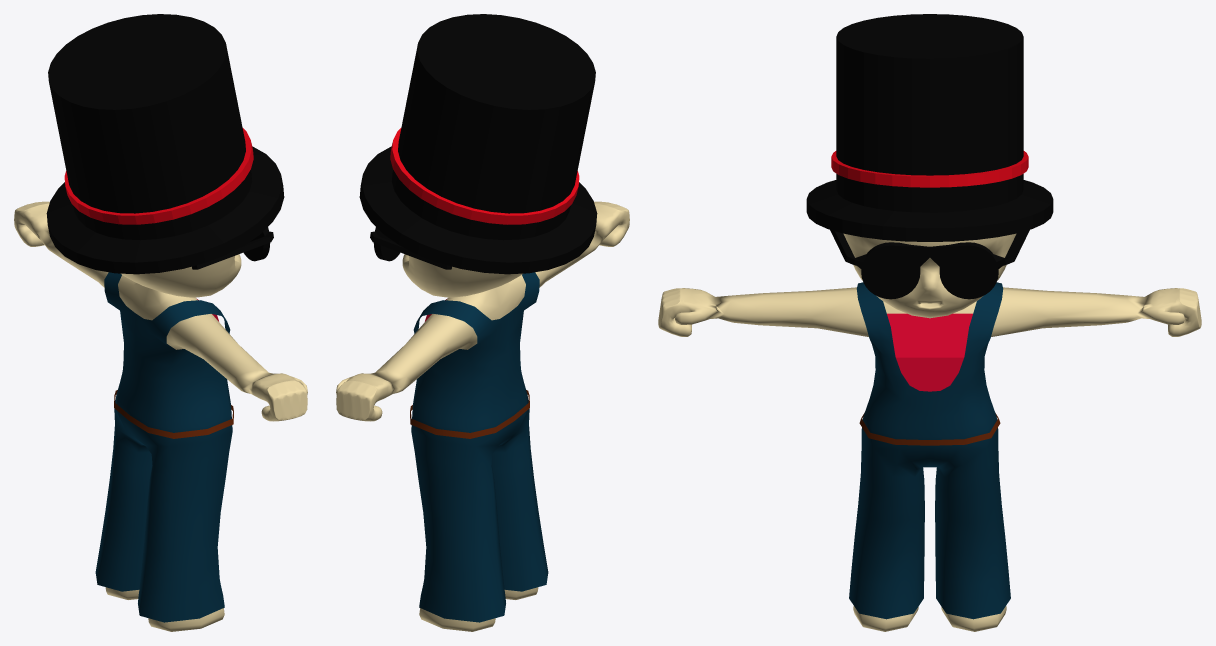
Rendered from junkieJohnny.fbx.
3 views of the same model, side by side, from view 1: azimuth 30°, elevation 25°; view 2: azimuth 150°, elevation 25°; view 3: azimuth 270°, elevation 25° (orthographic). The views are drawn at different scales.
Parts seen in each view (by area): view 1: Cylinder, Overalls, Body, Cylinder.001, Head, Cylinder.002; view 2: Cylinder, Overalls, Body, Cylinder.001, Head, Cylinder.002; view 3: Cylinder, Overalls, Body, Cylinder.002, Plane, Head, Cylinder.001.
Boxes of the visible parts, left/top/right/bottom form: Cylinder: left=46, top=14, right=284, bottom=274; Overalls: left=95, top=272, right=233, bottom=622; Body: left=14, top=201, right=307, bottom=631; Cylinder.001: left=64, top=128, right=253, bottom=224; Head: left=121, top=254, right=241, bottom=297; Cylinder.002: left=192, top=227, right=273, bottom=269; Cylinder: left=359, top=14, right=597, bottom=274; Overalls: left=410, top=272, right=548, bottom=622; Body: left=336, top=201, right=629, bottom=631; Cylinder.001: left=390, top=128, right=579, bottom=224; Head: left=402, top=254, right=522, bottom=297; Cylinder.002: left=370, top=227, right=451, bottom=269; Cylinder: left=806, top=14, right=1053, bottom=241; Overalls: left=849, top=282, right=1010, bottom=619; Body: left=658, top=287, right=1201, bottom=631; Cylinder.002: left=830, top=230, right=1029, bottom=299; Plane: left=887, top=313, right=972, bottom=391; Head: left=843, top=233, right=1016, bottom=318; Cylinder.001: left=831, top=151, right=1028, bottom=187.
Bounding box in the file's own units: 101 × 262 × 221.
